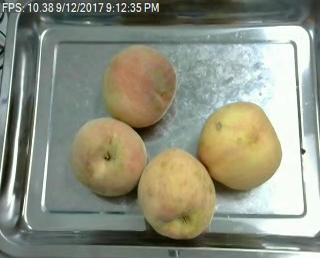Peach: (199, 101, 281, 191), (138, 148, 216, 240), (102, 43, 177, 127), (71, 117, 146, 197)
